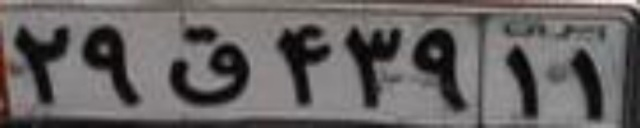1: (501, 43, 539, 117), (568, 46, 605, 120)
2: (13, 21, 72, 106)
3: (341, 25, 403, 109)
4: (278, 24, 332, 104)
9: (82, 25, 142, 104), (411, 28, 464, 110)
ghaf: (167, 24, 253, 107)
